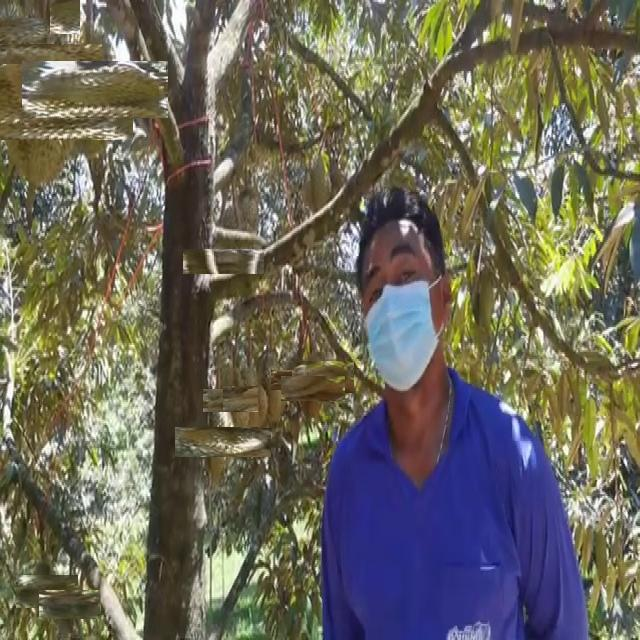durian: (0, 37, 106, 167), (44, 38, 146, 140), (0, 23, 82, 123), (191, 411, 255, 474), (197, 235, 250, 289), (258, 352, 291, 428), (23, 567, 71, 615), (216, 376, 264, 424), (300, 353, 347, 401), (233, 376, 279, 422), (232, 234, 263, 302), (47, 582, 93, 627), (291, 366, 335, 411), (0, 9, 38, 56), (310, 152, 336, 220), (278, 362, 314, 398), (47, 0, 81, 32)
